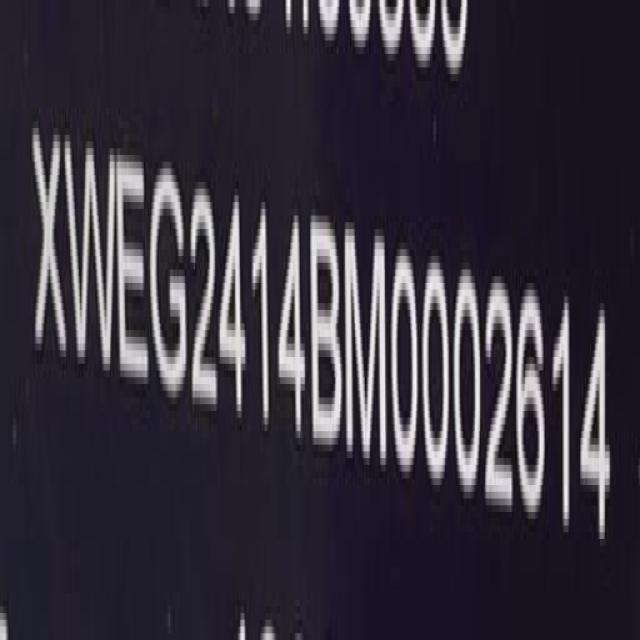0: (420, 254, 450, 502), (451, 267, 482, 502), (390, 254, 420, 472)
1: (552, 294, 574, 526), (250, 202, 272, 432)
2: (484, 267, 514, 526), (190, 187, 218, 424)
4: (217, 187, 250, 422), (580, 304, 611, 544), (277, 210, 307, 454)
6: (513, 284, 548, 514)
B: (309, 204, 344, 456)
E: (115, 140, 150, 394)
G: (147, 150, 189, 406)
M: (343, 217, 390, 477)
W: (64, 127, 116, 389)
X: (29, 110, 67, 387)
